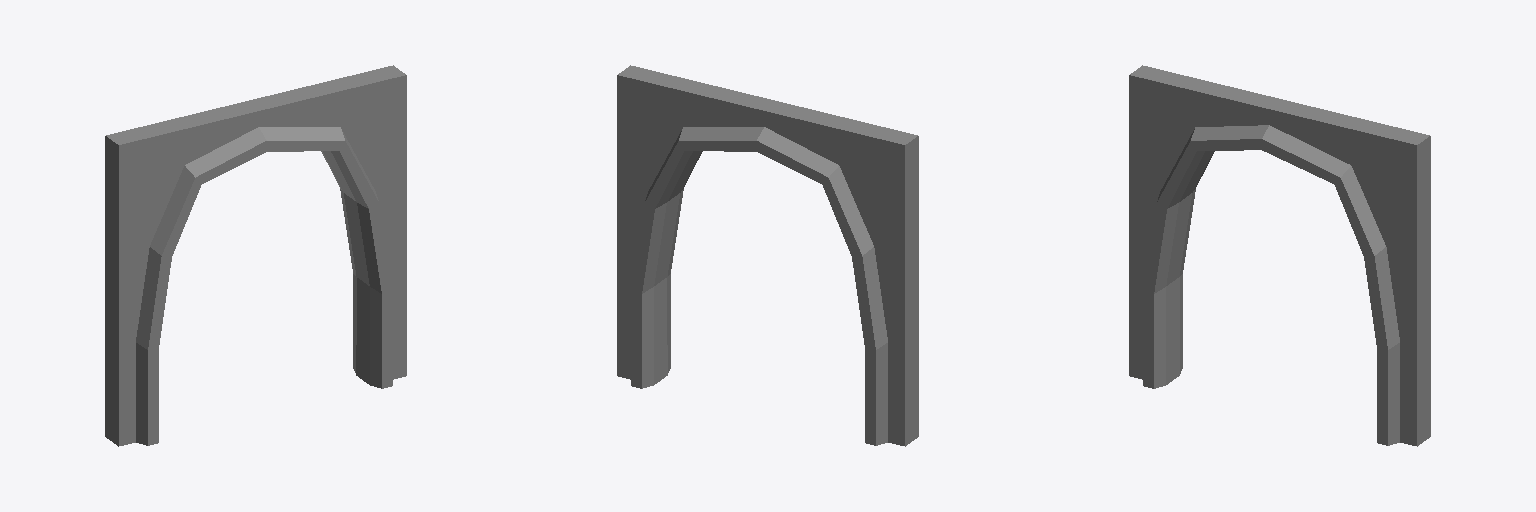
Rendered from arch.obj.
3 views of the same model, side by side, from view 1: azimuth 30°, elevation 25°; view 2: azimuth 150°, elevation 25°; view 3: azimuth 330°, elevation 25° (orthographic).
Visible parts, largest first — view 1: Box001; view 2: Box001; view 3: Box001.
Boxes of the visible parts, <box> form: Box001: <box>105,65,406,446</box>; Box001: <box>617,65,918,446</box>; Box001: <box>1129,65,1430,446</box>.
Size of the model in its own units: 1 by 1 by 0.1738.